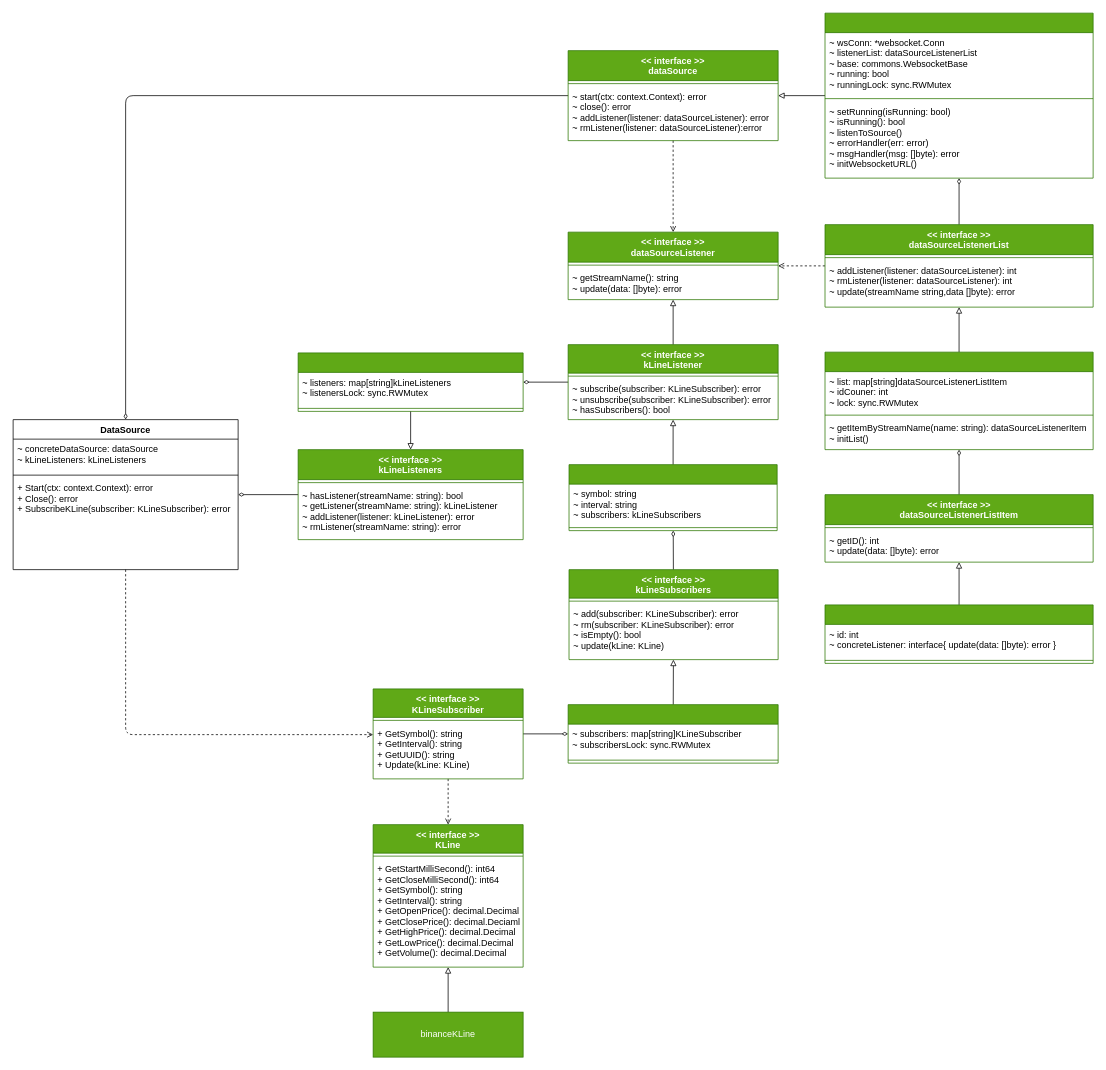
This 1106x1070 diagram has some shape labels left out. The box of each missing label's shape, as (x1, y1, x2, y2) in pixels:
binanceDataSource: (824, 12, 1093, 178)
binanceDataSourceListenerList: (824, 351, 1093, 450)
binanceDataSourceListenerListItem: (824, 604, 1093, 663)
binanceKLineListener: (568, 464, 777, 531)
binanceKLineListeners: (297, 352, 523, 411)
kLineSubscriberMap: (567, 704, 778, 763)
